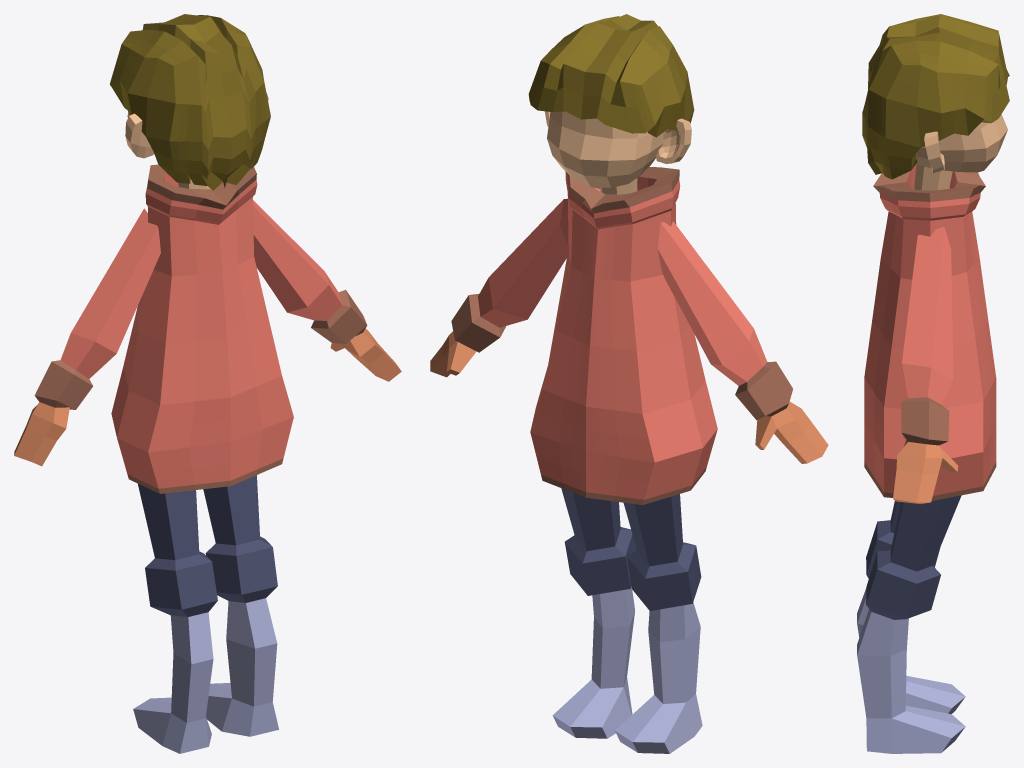
File: npc_survivor.glb
The picture shows the model from 3 angles, left to right: view 1: azimuth 30°, elevation 25°; view 2: azimuth 150°, elevation 25°; view 3: azimuth 270°, elevation 25°; orthographic projection. The views are drawn at different scales.
Visible parts, largest first — view 1: Cube, Cylindre, Cube.004, Cylindre.001, Cube.002; view 2: Cube, Cylindre, Cylindre.001, Cube.004, Cube.001, Cube.002; view 3: Cube, Cylindre, Cube.004, Cylindre.001, Cube.001, Cylindre.002, Cube.002.
Boxes of the visible parts, x1,y1,x2,y2 form: Cube: (111,164,293,493); Cylindre: (133,475,278,753); Cube.004: (110,14,270,190); Cylindre.001: (14,200,401,466); Cube.002: (125,92,268,158); Cube: (530,167,717,504); Cylindre: (552,488,702,753); Cylindre.001: (430,198,828,463); Cube.004: (528,14,694,137); Cube.001: (547,111,663,187); Cube.002: (545,111,691,163); Cube: (864,164,996,500); Cylindre: (857,495,965,753); Cube.004: (862,14,1009,179); Cylindre.001: (893,226,958,504); Cube.001: (916,114,1007,172); Cylindre.002: (913,164,952,190); Cube.002: (924,131,944,173).
Size of the model in its own units: 2.55 by 4.43 by 0.872.
